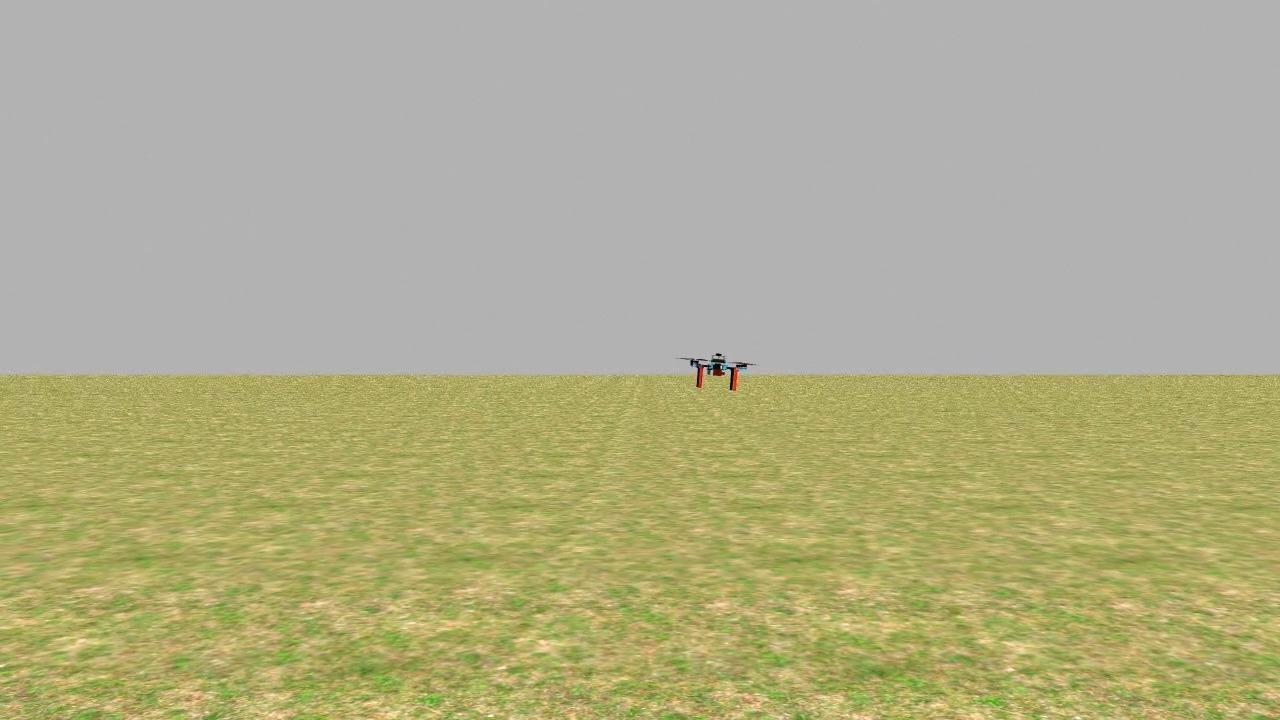UAV: (678, 348, 760, 401)
